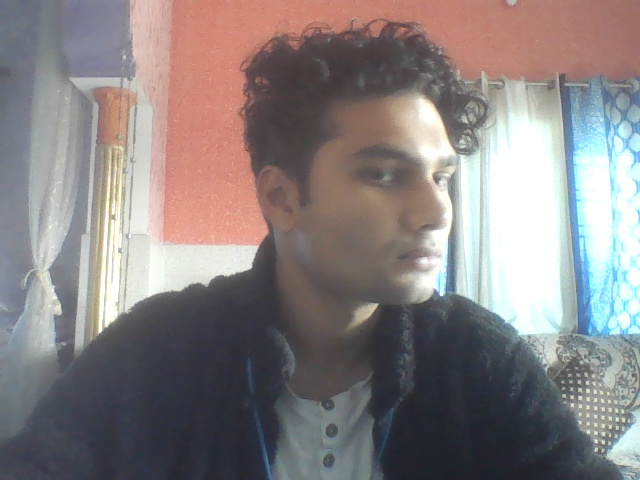real: (265, 24, 478, 326)
